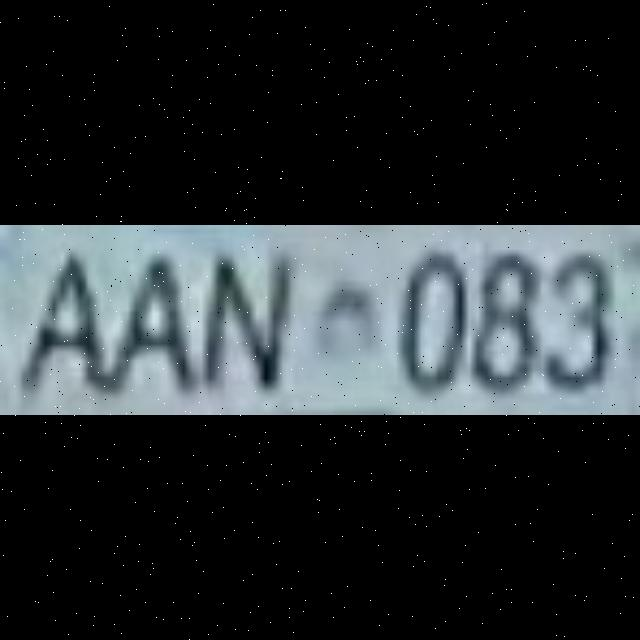0: (372, 238, 454, 410)
3: (541, 238, 623, 410)
8: (456, 238, 538, 410)
A: (35, 238, 117, 410), (119, 238, 201, 410)
N: (203, 238, 285, 410)
